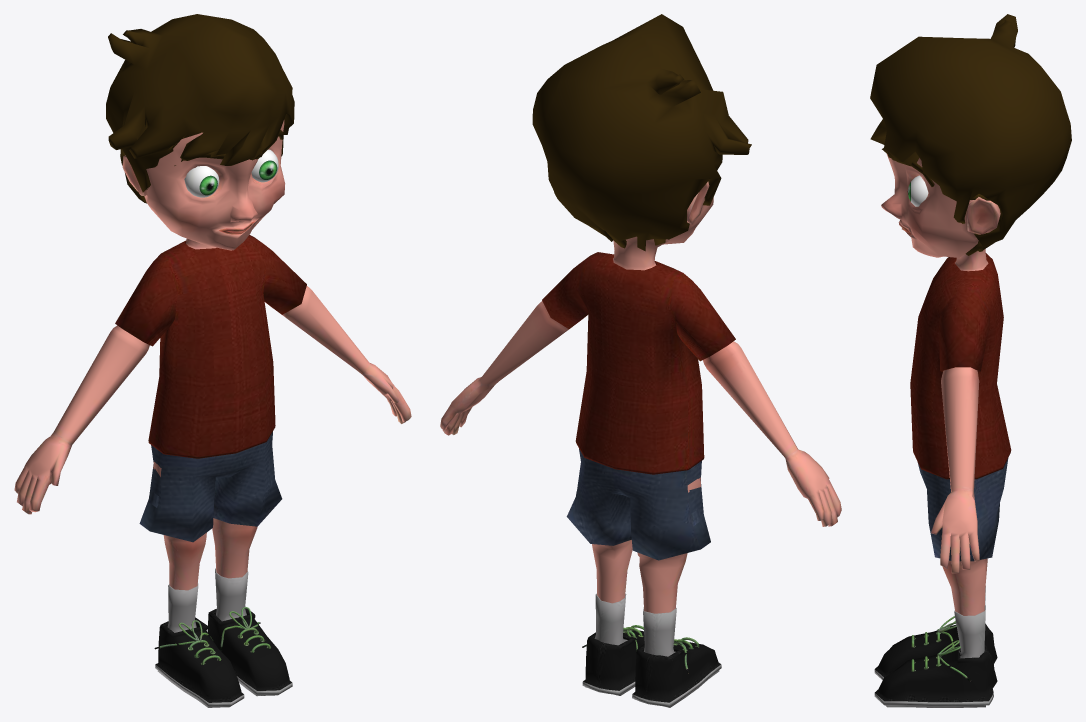
The model's file is boy.glb.
3 renders of one model, left to right at view 1: azimuth 30°, elevation 25°; view 2: azimuth 150°, elevation 25°; view 3: azimuth 270°, elevation 25°, orthographic.
Visible parts, largest first — view 1: Shirt, Boy, Hair, Trousers, Shoes, Socks, Eyes.001, Eyes; view 2: Hair, Shirt, Boy, Trousers, Shoes, Socks; view 3: Hair, Boy, Shirt, Shoes, Trousers, Socks, Eyes, Shoe lace1.
Part boxes in pixels (<box>): Shirt: <box>115,235,306,458</box>; Boy: <box>14,120,411,590</box>; Hair: <box>106,14,294,203</box>; Trousers: <box>139,432,282,542</box>; Shoes: <box>155,608,292,707</box>; Socks: <box>167,568,248,632</box>; Eyes.001: <box>184,166,219,197</box>; Eyes: <box>251,149,278,182</box>; Hair: <box>532,14,751,251</box>; Shirt: <box>542,252,735,474</box>; Boy: <box>440,181,841,613</box>; Trousers: <box>566,448,710,560</box>; Shoes: <box>582,630,721,707</box>; Socks: <box>594,593,676,656</box>; Hair: <box>870,14,1071,255</box>; Boy: <box>881,154,1000,615</box>; Shirt: <box>910,253,1011,479</box>; Shoes: <box>874,623,997,707</box>; Trousers: <box>917,458,1008,561</box>; Socks: <box>954,586,985,658</box>; Eyes: <box>907,175,928,206</box>; Shoe lace1: <box>911,640,970,681</box>.
Size of the model in its own units: 2.76 by 4.49 by 1.26.
Materials: 2 (1 with a texture image).
